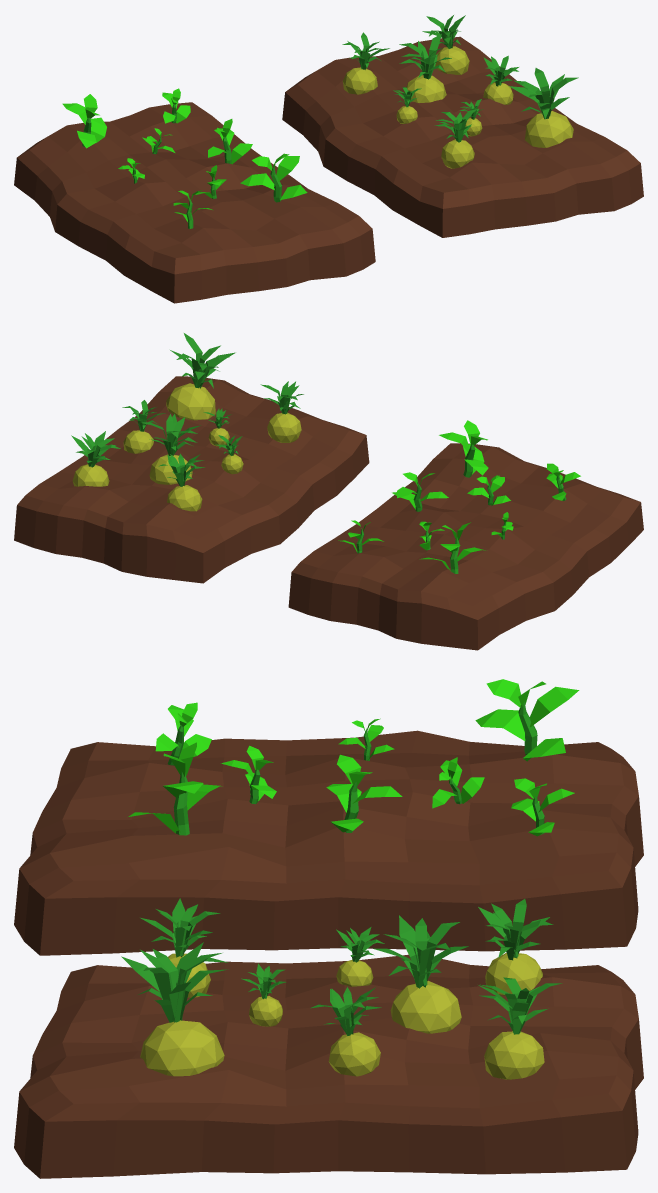
The model's file is Garden_bed.fbx.
3 renders of one model, top to bottom at view 1: azimuth 30°, elevation 25°; view 2: azimuth 150°, elevation 25°; view 3: azimuth 270°, elevation 25°, orthographic. The views are drawn at different scales.
Parts seen in each view (by area): view 1: Garden_bed_1, Garden_bed_2, Vegetable_6, Vegetable_5, Sprout_2, Vegetable_8, Vegetable_1, Vegetable_3, Sprout_8, Vegetable_7, Sprout_1, Sprout_3 (+2 smaller); view 2: Garden_bed_1, Garden_bed_2, Vegetable_6, Vegetable_5, Vegetable_8, Vegetable_1, Vegetable_3, Sprout_2, Vegetable_7, Sprout_1, Sprout_8, Vegetable_2 (+3 smaller); view 3: Garden_bed_1, Garden_bed_2, Vegetable_6, Vegetable_5, Vegetable_8, Vegetable_3, Sprout_8, Vegetable_7, Sprout_2, Vegetable_1, Sprout_1, Vegetable_2 (+6 smaller).
Part boxes in pixels (x1=…): Garden_bed_1: x1=14, y1=102, x2=375, y2=303; Garden_bed_2: x1=282, y1=36, x2=643, y2=237; Vegetable_6: x1=509, y1=68, x2=578, y2=147; Vegetable_5: x1=399, y1=34, x2=451, y2=102; Sprout_2: x1=240, y1=153, x2=307, y2=202; Vegetable_8: x1=422, y1=15, x2=469, y2=74; Vegetable_1: x1=434, y1=109, x2=476, y2=168; Vegetable_3: x1=342, y1=32, x2=389, y2=94; Sprout_8: x1=62, y1=94, x2=106, y2=148; Vegetable_7: x1=483, y1=55, x2=518, y2=104; Sprout_1: x1=208, y1=119, x2=252, y2=164; Sprout_3: x1=162, y1=88, x2=190, y2=123; Garden_bed_1: x1=288, y1=443, x2=643, y2=650; Garden_bed_2: x1=14, y1=376, x2=369, y2=583; Vegetable_6: x1=166, y1=333, x2=235, y2=420; Vegetable_5: x1=141, y1=414, x2=200, y2=484; Vegetable_8: x1=71, y1=431, x2=120, y2=486; Vegetable_1: x1=260, y1=381, x2=303, y2=442; Vegetable_3: x1=158, y1=453, x2=204, y2=511; Sprout_2: x1=439, y1=420, x2=488, y2=477; Vegetable_7: x1=122, y1=400, x2=165, y2=453; Sprout_1: x1=392, y1=472, x2=448, y2=511; Sprout_8: x1=419, y1=522, x2=485, y2=573; Vegetable_2: x1=215, y1=435, x2=243, y2=474; Garden_bed_1: x1=14, y1=730, x2=643, y2=955; Garden_bed_2: x1=14, y1=954, x2=643, y2=1178; Vegetable_6: x1=121, y1=942, x2=228, y2=1076; Vegetable_5: x1=373, y1=915, x2=468, y2=1033; Vegetable_8: x1=478, y1=977, x2=562, y2=1079; Vegetable_3: x1=478, y1=899, x2=553, y2=995; Sprout_8: x1=475, y1=679, x2=579, y2=761; Vegetable_7: x1=310, y1=987, x2=381, y2=1076; Sprout_2: x1=128, y1=742, x2=222, y2=835; Vegetable_1: x1=140, y1=898, x2=220, y2=997; Sprout_1: x1=326, y1=754, x2=402, y2=832; Vegetable_2: x1=336, y1=927, x2=384, y2=986.
Bounding box in the file's own units: 11.64 × 2.45 × 7.8.
